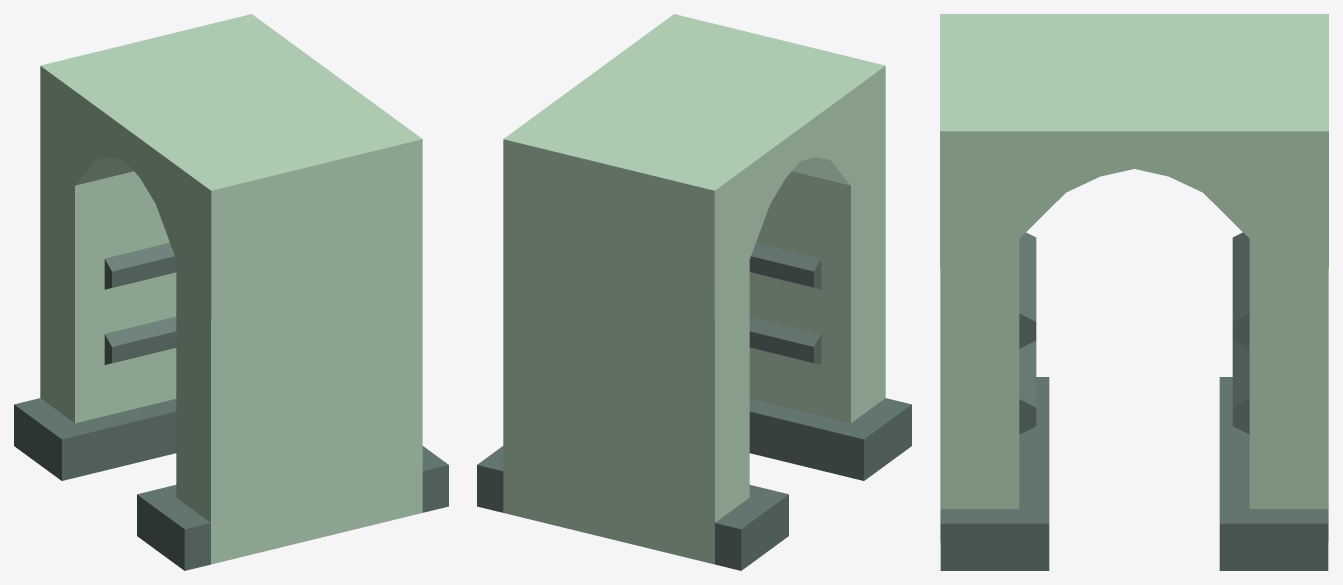
The model's file is Bridge1MeterNoTop.fbx.
3 views of the same model, side by side, from view 1: azimuth 30°, elevation 25°; view 2: azimuth 150°, elevation 25°; view 3: azimuth 270°, elevation 25° (orthographic). The views are drawn at different scales.
Parts seen in each view (by area): view 1: Bridge1MeterNoTop; view 2: Bridge1MeterNoTop; view 3: Bridge1MeterNoTop.
Boxes of the visible parts, bbox=[...] form: Bridge1MeterNoTop: bbox=[14, 14, 448, 570]; Bridge1MeterNoTop: bbox=[477, 14, 911, 570]; Bridge1MeterNoTop: bbox=[940, 14, 1328, 570].
Bounding box in the file's own units: 0.894 × 1.21 × 1.
